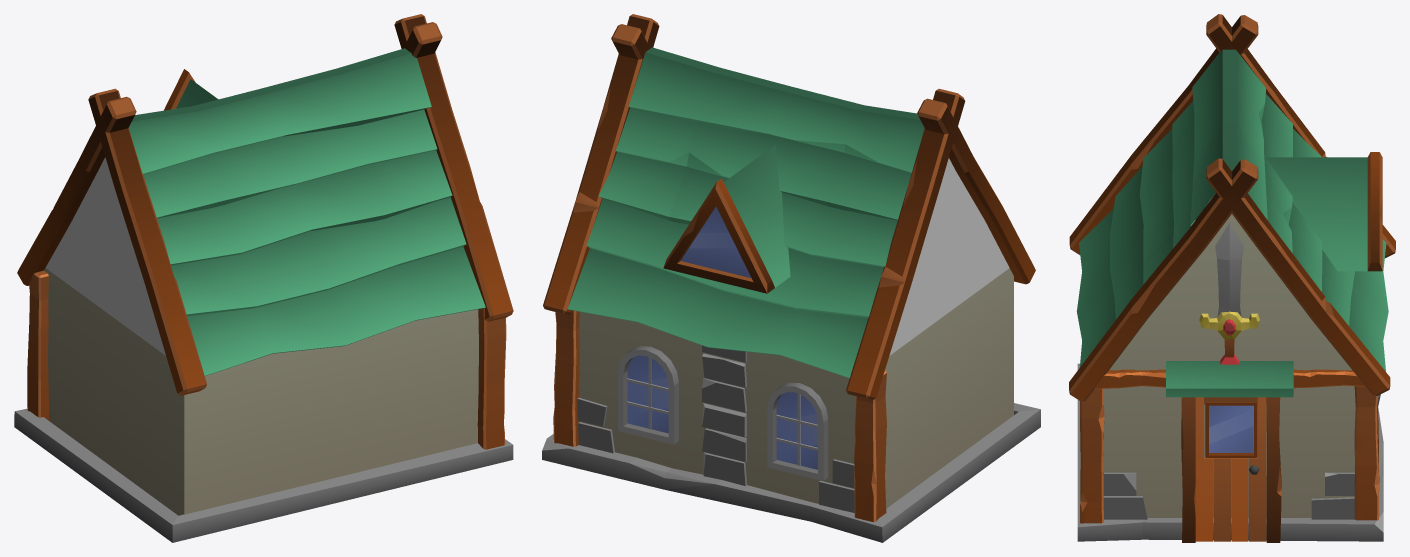
The model's file is smithy_01.fbx.
The picture shows the model from 3 angles, left to right: view 1: azimuth 30°, elevation 25°; view 2: azimuth 150°, elevation 25°; view 3: azimuth 270°, elevation 25°; orthographic projection. The views are drawn at different scales.
Visible parts, largest first — view 1: Box025.075; view 2: Box025.075; view 3: Box025.075.
Part boxes in pixels (box(x1,y1,x2,y2)): Box025.075: box(14, 14, 513, 542); Box025.075: box(542, 14, 1040, 542); Box025.075: box(1069, 14, 1395, 542).
Size of the model in its own units: 7.35 by 7.71 by 6.13.
